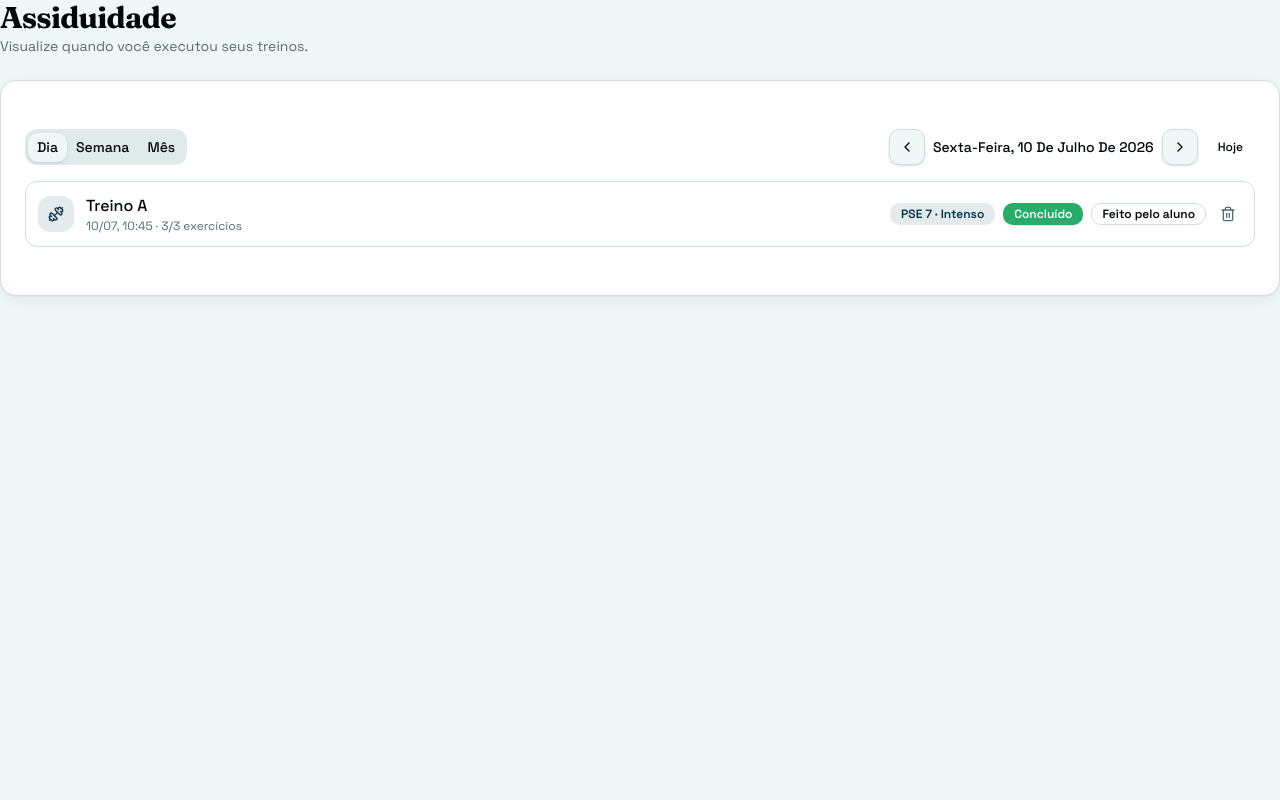
Test: AssiduidadePage › shows the PSE badge inside the day's check-in detail when recorded
This screenshot has width=1280, height=800.
Expected: the text "Treino A" is shown, top-left (86, 195), bottom-right (147, 216)
Click the tab "Semana". click: click(103, 147)
box: top-left (67, 132), bottom-right (138, 162)
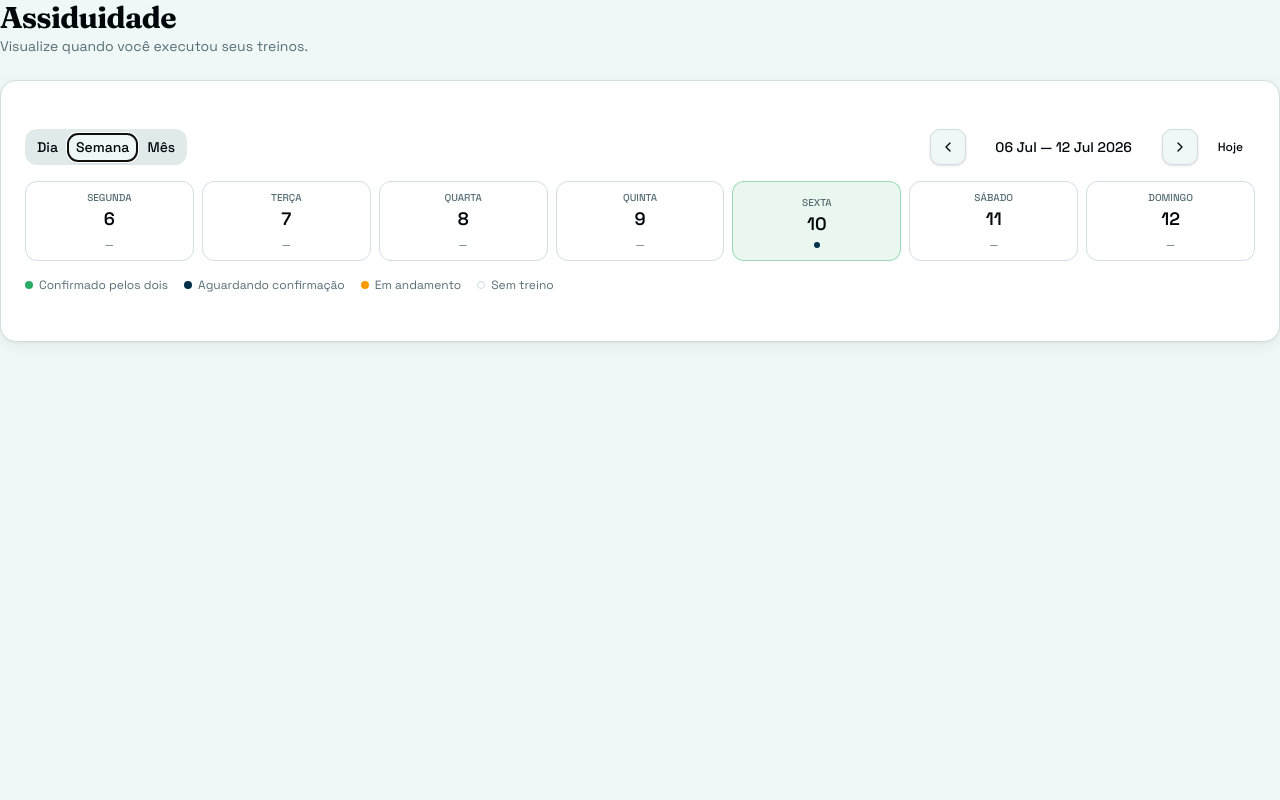
Click the button with aria-label "10/07/2026". click: click(817, 221)
box: top-left (732, 181), bottom-right (901, 261)
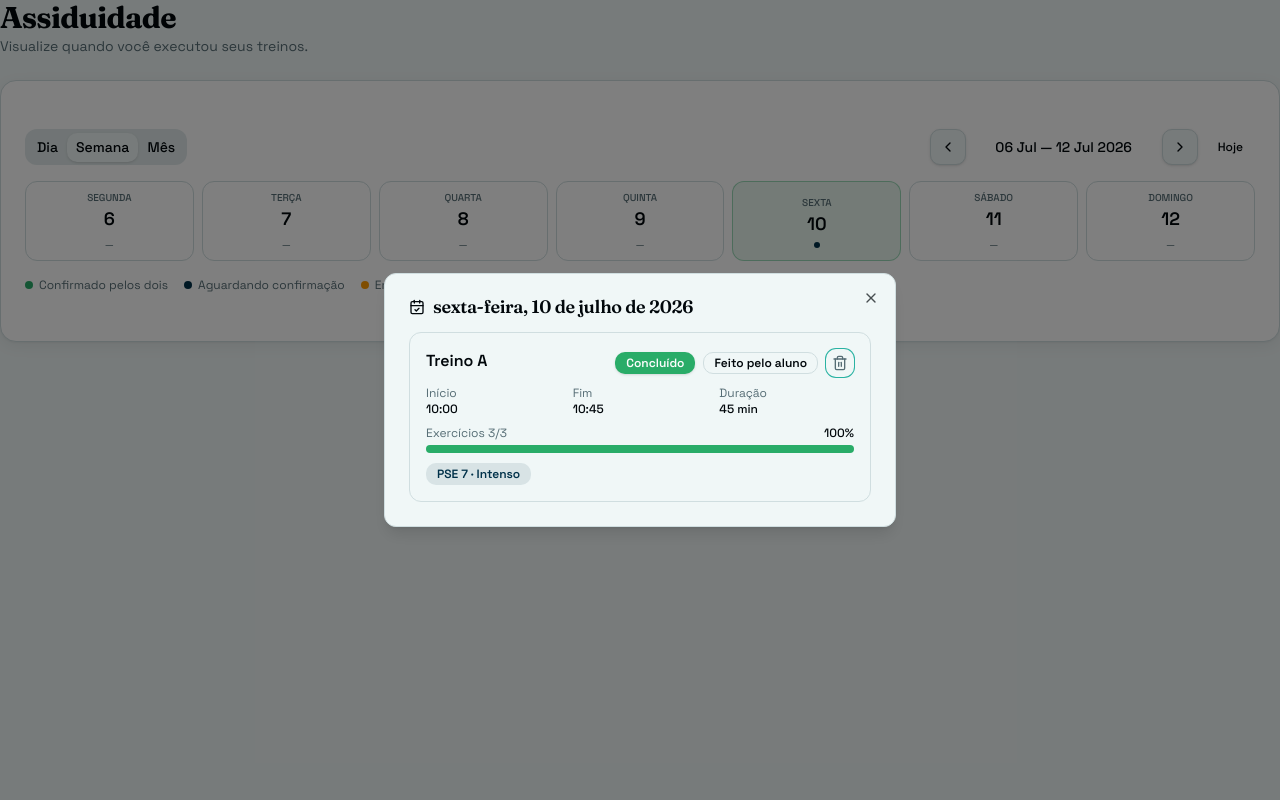
Expected: the text "PSE 7 · Intenso" is shown, top-left (426, 463), bottom-right (531, 485)
